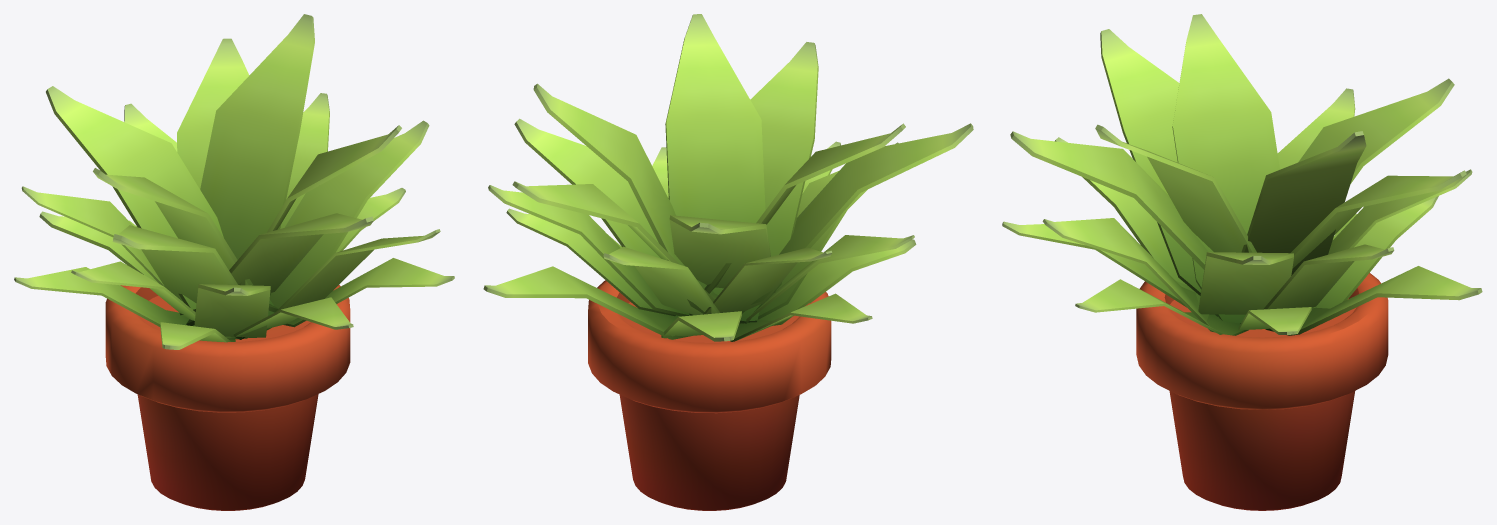
Rendered from plant.glb.
The picture shows the model from 3 angles, left to right: view 1: azimuth 30°, elevation 25°; view 2: azimuth 150°, elevation 25°; view 3: azimuth 270°, elevation 25°; orthographic projection. The views are drawn at different scales.
Parts seen in each view (by area): view 1: Plane.016, Cylinder; view 2: Plane.016, Cylinder; view 3: Plane.016, Cylinder.
Boxes of the visible parts, x1,y1,x2,y2 form: Plane.016: (14, 14, 454, 349); Cylinder: (105, 285, 350, 510); Plane.016: (483, 14, 973, 341); Cylinder: (588, 280, 831, 510); Plane.016: (1002, 14, 1482, 335); Cylinder: (1136, 273, 1388, 510).
Bounding box in the file's own units: 4.7 × 4.66 × 4.92.
23 materials, 23 textured.
